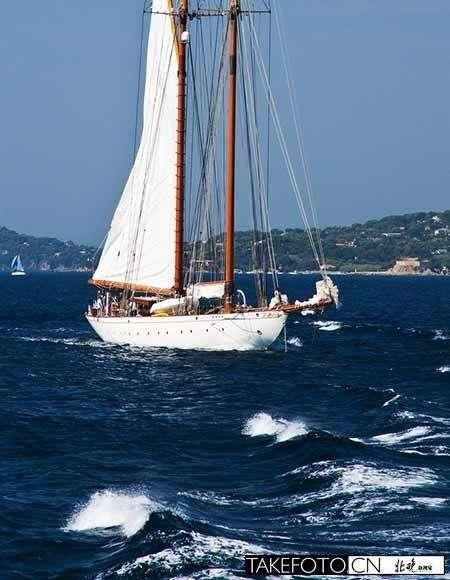fanchuan: (77, 1, 336, 352)
